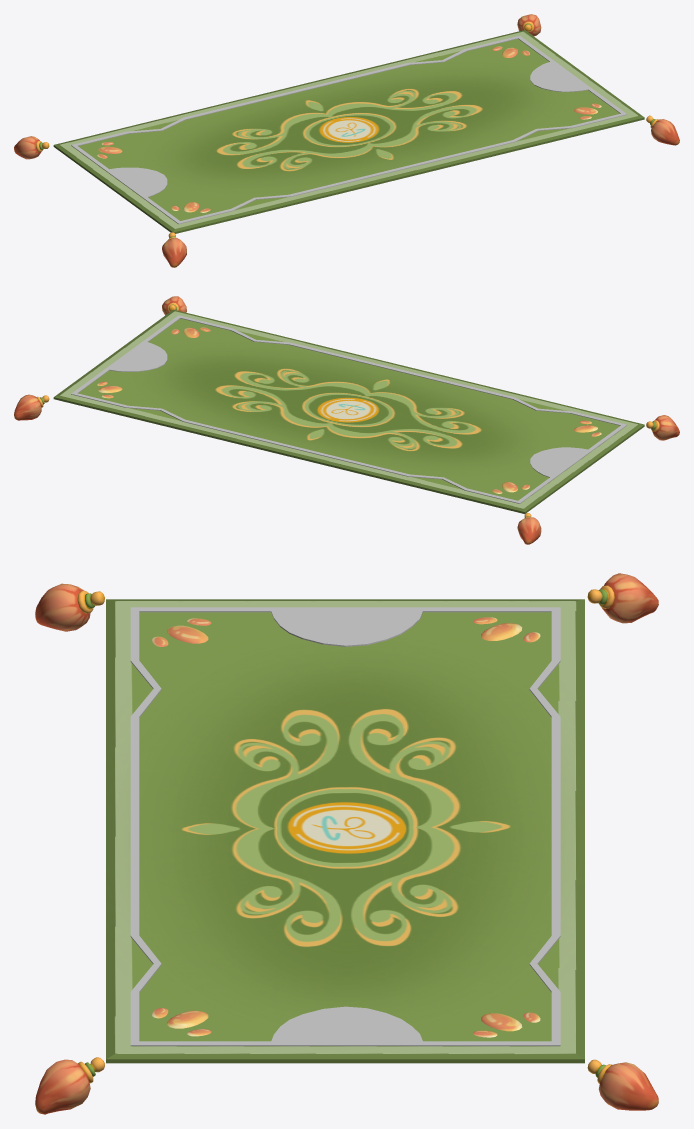
File: FiyingCarpet.fbx
3 views of the same model, one above another, from view 1: azimuth 30°, elevation 25°; view 2: azimuth 150°, elevation 25°; view 3: azimuth 270°, elevation 25° (orthographic). The views are drawn at different scales.
Parts seen in each view (by area): view 1: FlyingCarpet, Carpet_decoration, Carpet_fringe, Carpet_diamond; view 2: FlyingCarpet, Carpet_decoration, Carpet_fringe, Carpet_diamond; view 3: FlyingCarpet, Carpet_decoration, Carpet_fringe, Carpet_diamond.
Boxes of the visible parts, x1,y1,x2,y2 form: FlyingCarpet: [53, 30, 644, 233]; Carpet_decoration: [71, 35, 627, 224]; Carpet_fringe: [14, 14, 679, 267]; Carpet_diamond: [97, 46, 601, 212]; FlyingCarpet: [53, 309, 644, 513]; Carpet_decoration: [71, 315, 626, 503]; Carpet_fringe: [14, 296, 679, 544]; Carpet_diamond: [97, 327, 601, 493]; FlyingCarpet: [106, 599, 584, 1063]; Carpet_decoration: [130, 607, 560, 1046]; Carpet_fringe: [35, 573, 658, 1114]; Carpet_diamond: [152, 617, 540, 1037].
Size of the model in its own units: 2759 by 123 by 1433.
